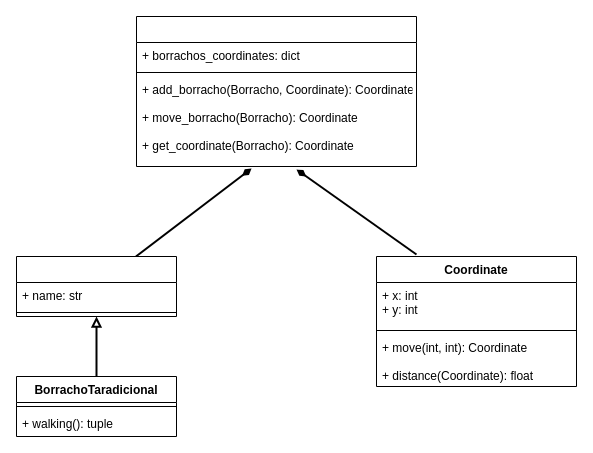
The diagram is 593 pixels wide and 453 high, and some of its shapes have lost their labels. Each missing label, with the box of its shape:
Borracho: (16, 256, 176, 316)
Field: (136, 16, 416, 166)
